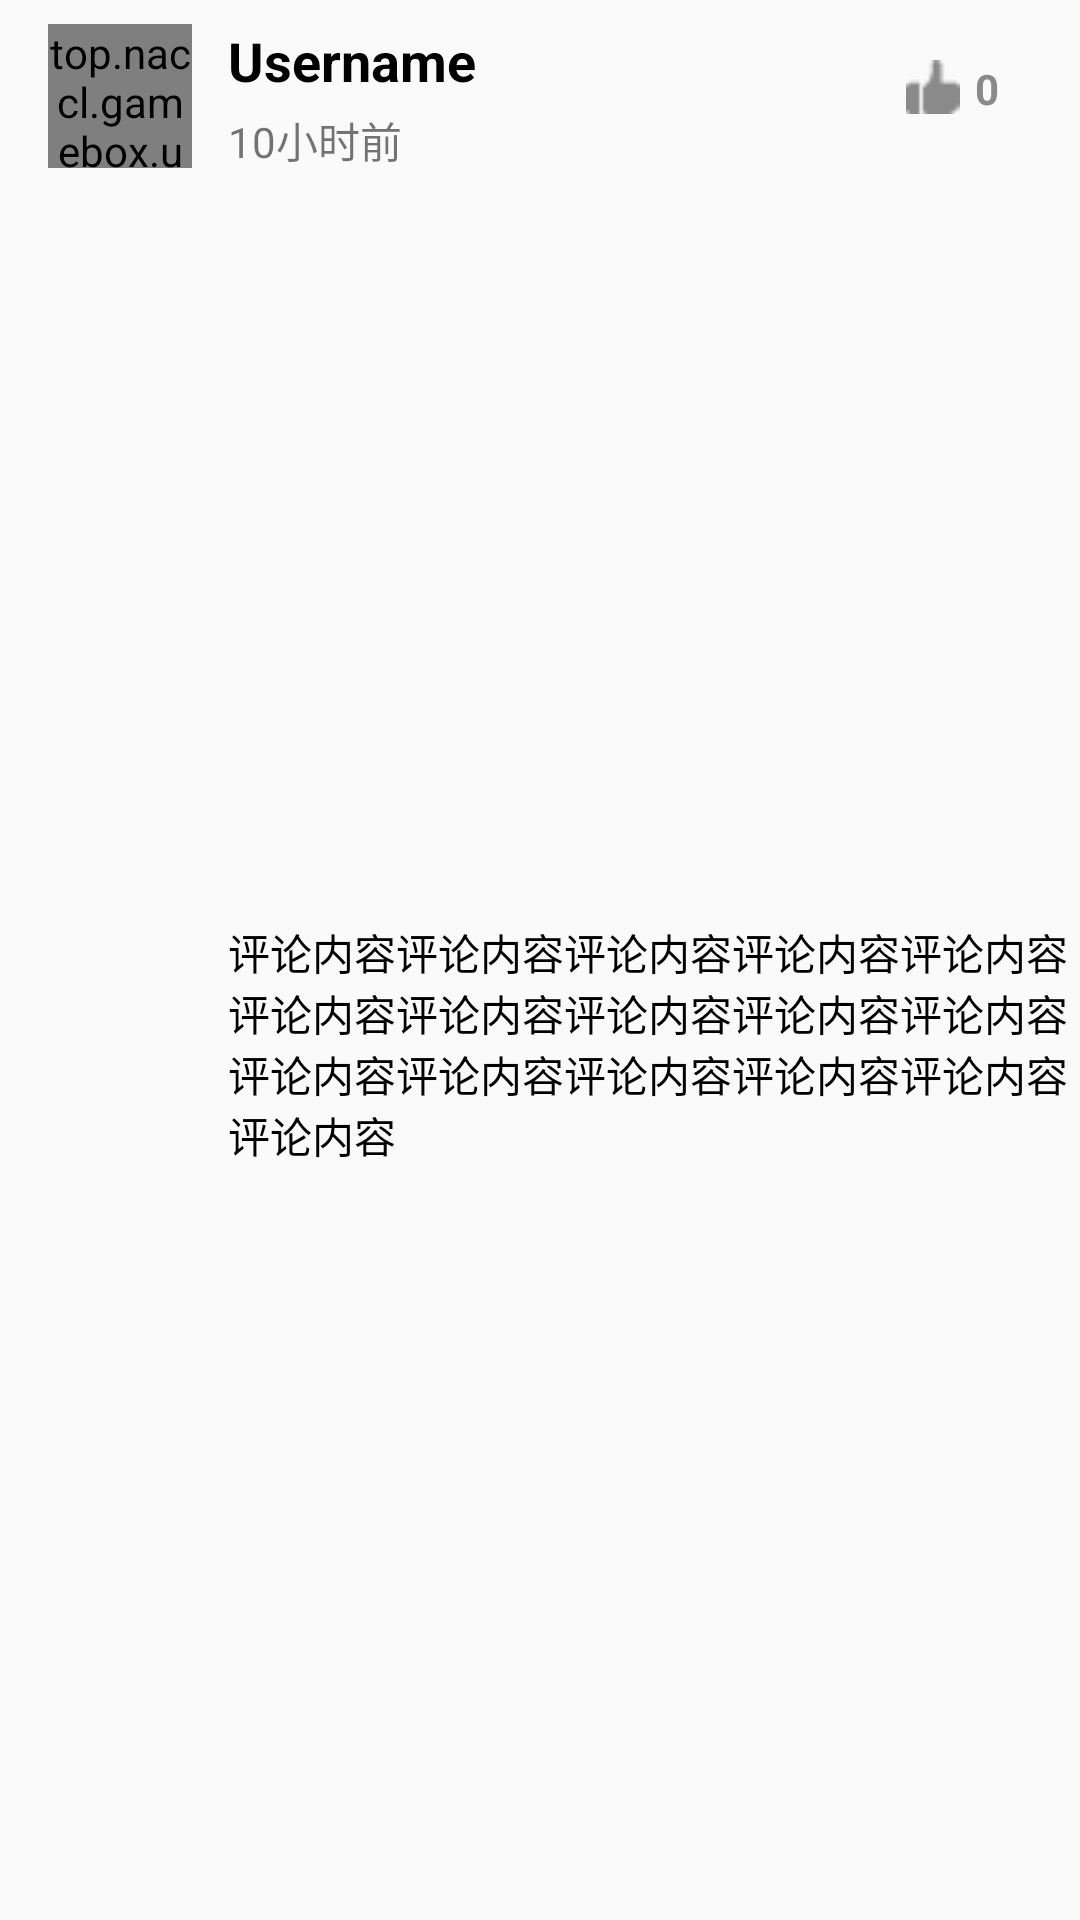

Where icons sit on this 1080×1920 app screen, as (x1, y1, x2, y2):
article good: (906, 60, 960, 114)
